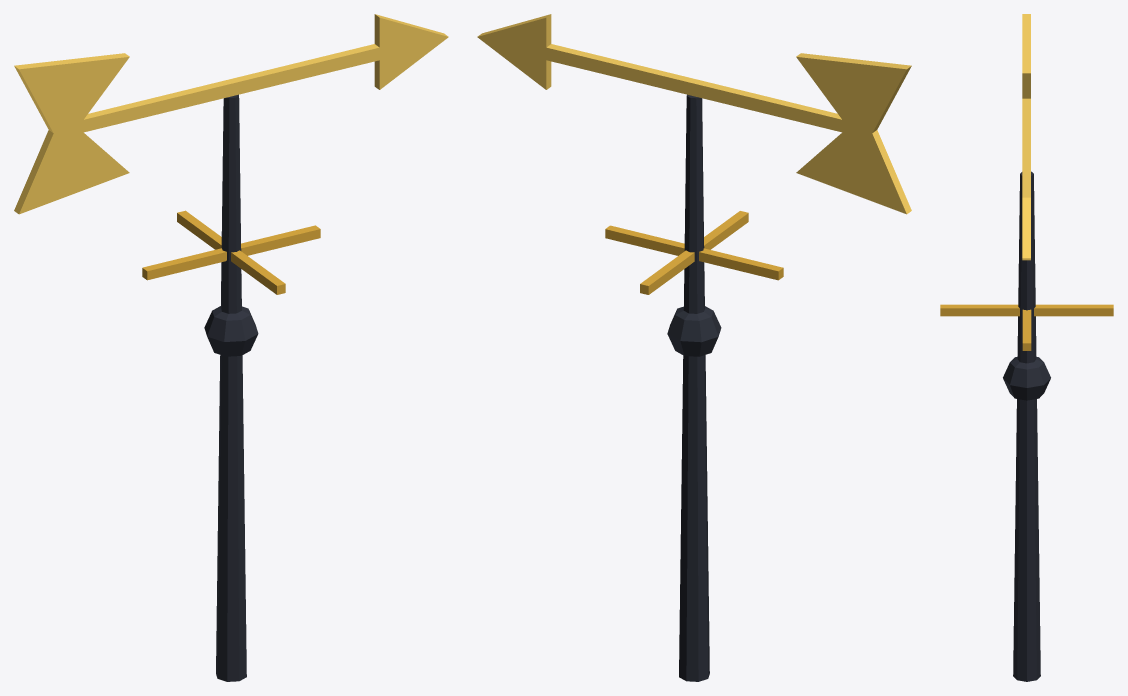
Rendered from prop-weathervane.glb.
3 views of the same model, side by side, from view 1: azimuth 30°, elevation 25°; view 2: azimuth 150°, elevation 25°; view 3: azimuth 270°, elevation 25° (orthographic). The views are drawn at different scales.
Parts seen in each view (by area): view 1: arrow_g_goldBright, vane_g_iron, vane_g_gold; view 2: arrow_g_goldBright, vane_g_iron, vane_g_gold; view 3: vane_g_iron, vane_g_gold, arrow_g_goldBright.
Boxes of the visible parts, <box> form: arrow_g_goldBright: <box>14,14,448,214</box>; vane_g_iron: <box>204,94,258,681</box>; vane_g_gold: <box>142,210,320,294</box>; arrow_g_goldBright: <box>477,14,911,214</box>; vane_g_iron: <box>667,94,721,681</box>; vane_g_gold: <box>605,211,783,294</box>; vane_g_iron: <box>1003,171,1050,681</box>; vane_g_gold: <box>940,304,1113,350</box>; arrow_g_goldBright: <box>1022,14,1030,260</box>.
Bounding box in the file's own units: 1.24 × 1.82 × 0.5.
